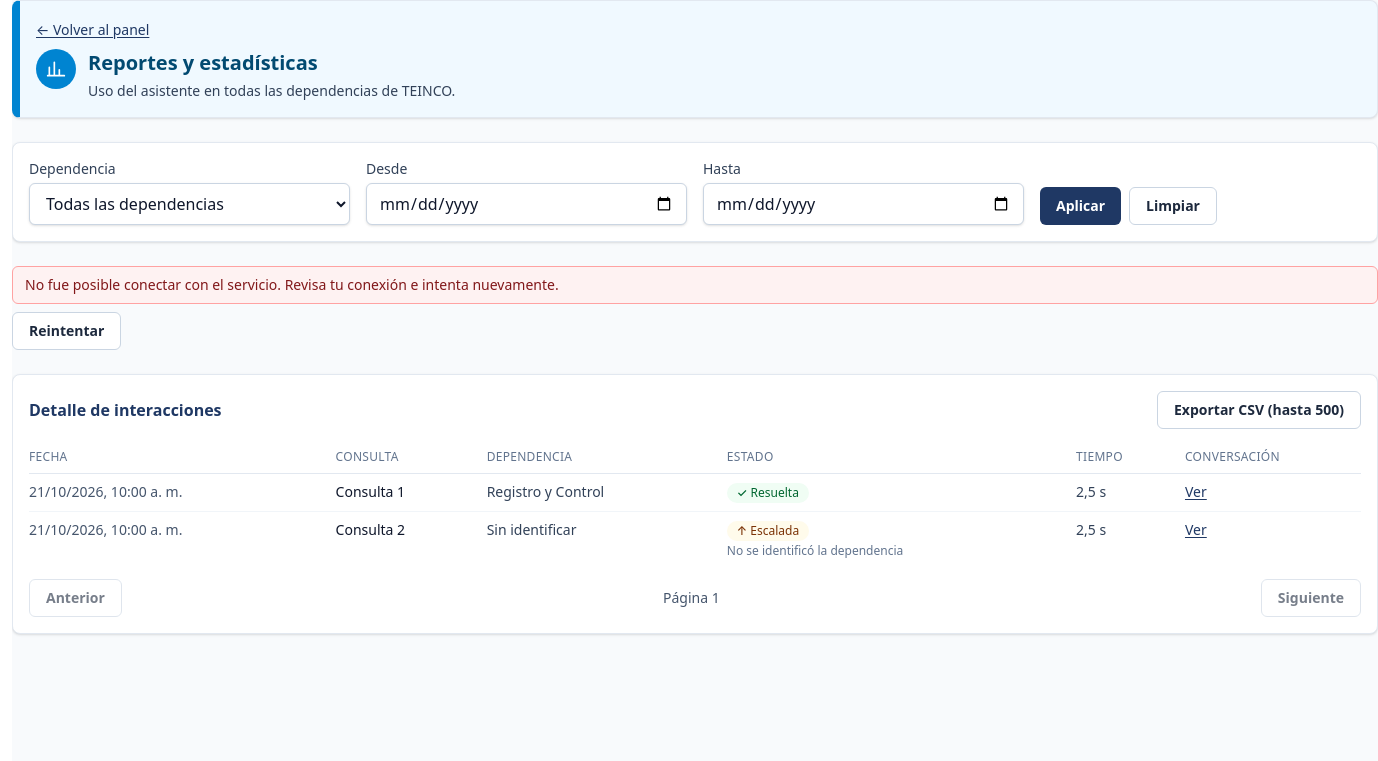
Scenario: panel de reportes › ante un error muestra el aviso y permite reintentar
The image size is (1378, 761).
Expected: the text "No fue posible conectar" is shown, [25,275,559,294]
Click the button "Reintentar": (67, 331) [12,312,121,350]
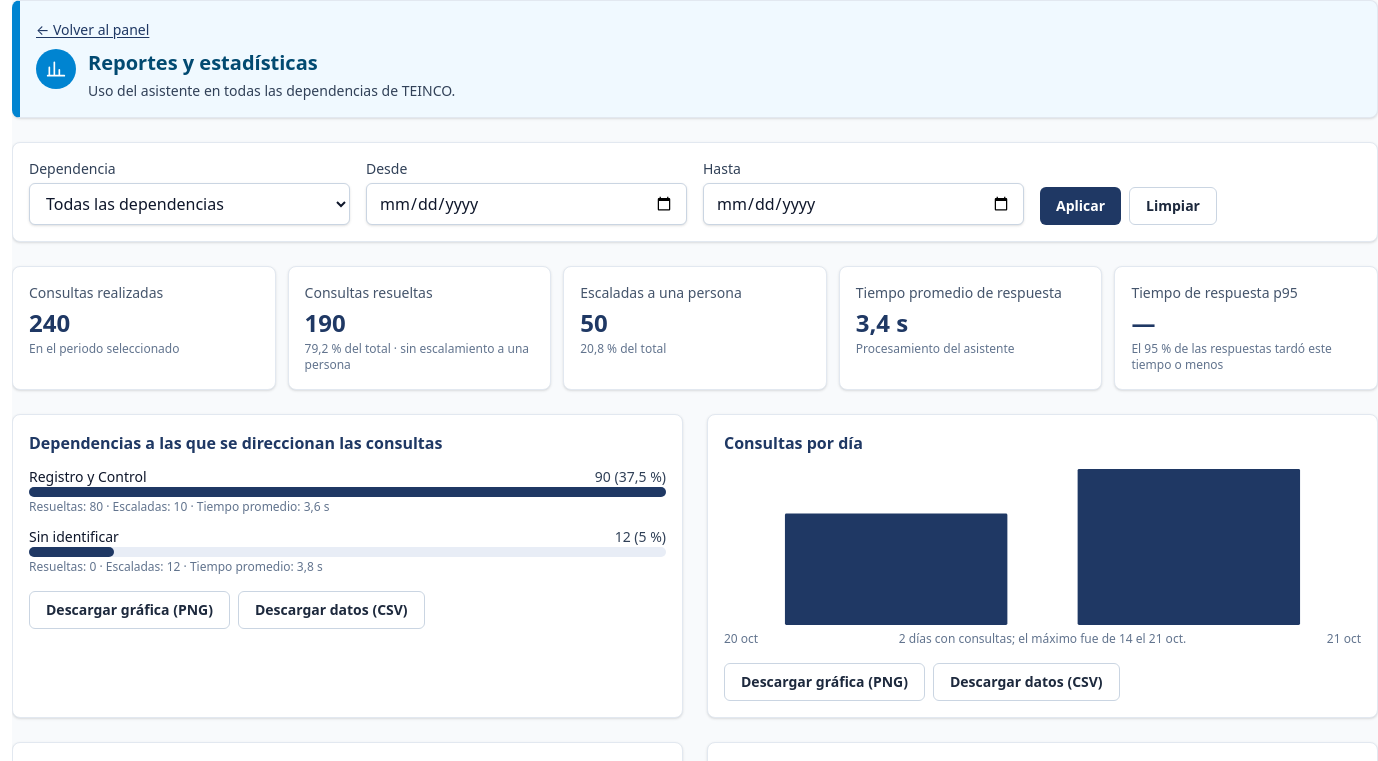
Now the element named "Indicadores principales" is shown, box [12,266,1377,390]
